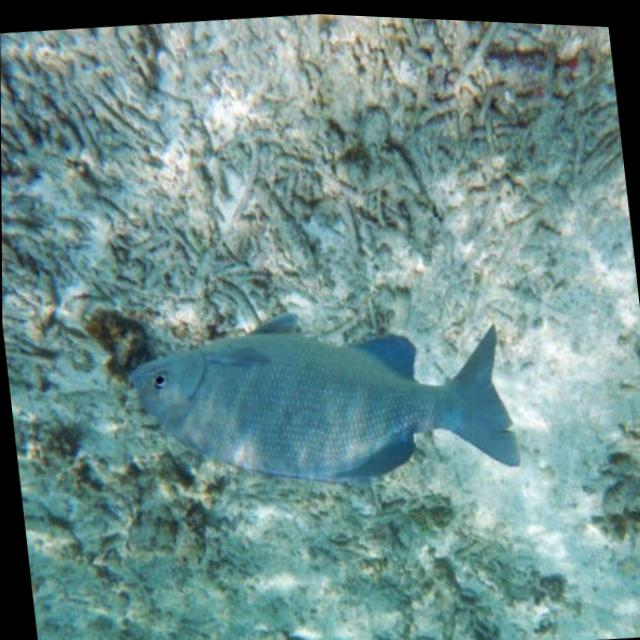Dead Coral: (35, 11, 593, 328), (91, 443, 550, 640)
